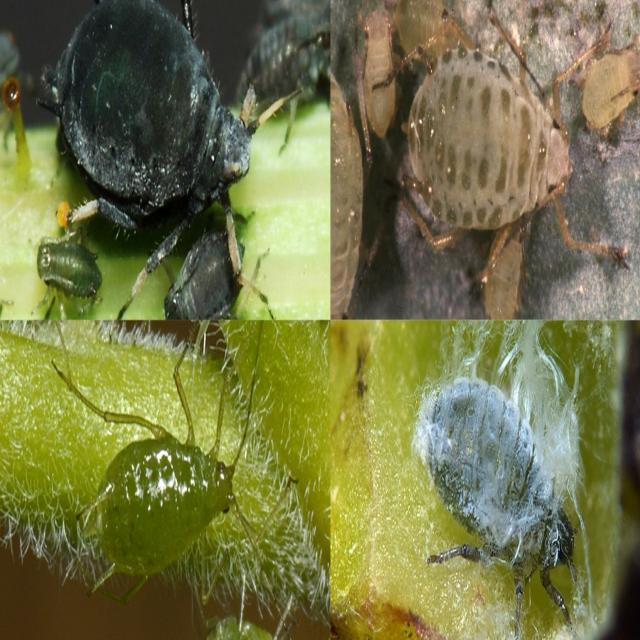Aphid-Grown-: (39, 341, 256, 608), (390, 24, 591, 264), (44, 7, 260, 224), (403, 384, 578, 608), (149, 222, 267, 316), (30, 225, 114, 321)
